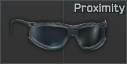Pyramex Proximity safety glasses: (0, 0, 127, 64)
